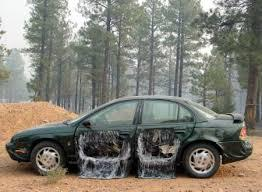doorouter-dent: (79, 121, 128, 176), (139, 127, 177, 176)
quaterpanel-dent: (195, 125, 235, 150)
